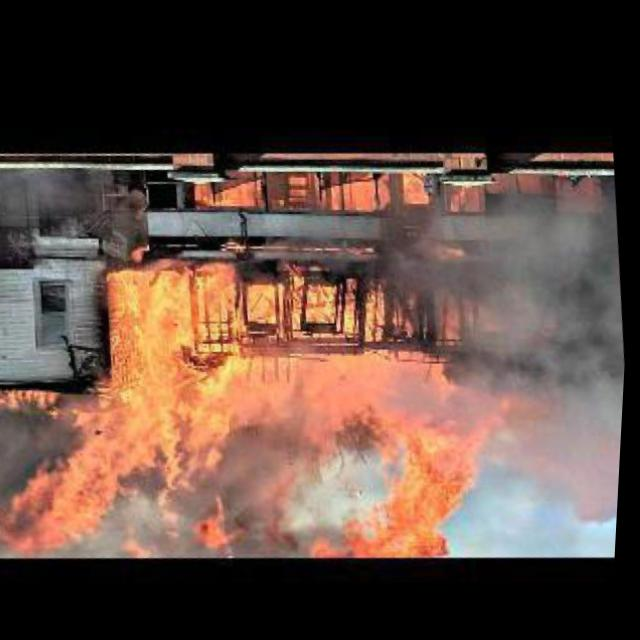Fire: (0, 210, 513, 597), (407, 154, 635, 528)
